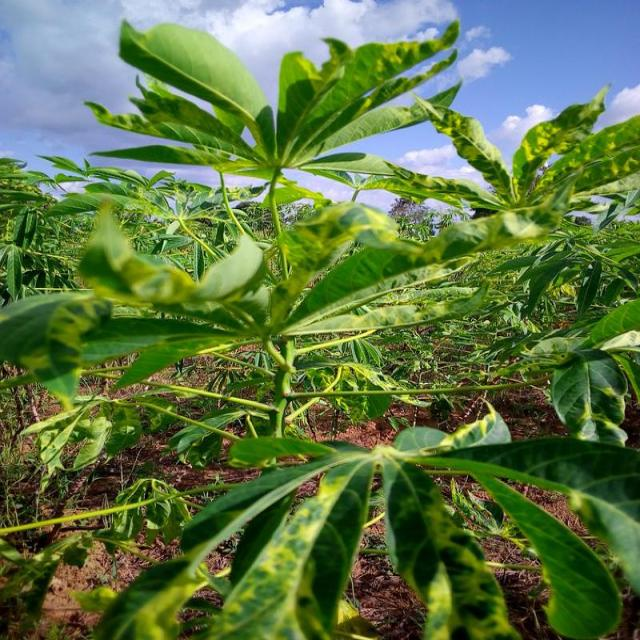cassava leaf: (2, 14, 640, 638), (118, 17, 276, 158)
